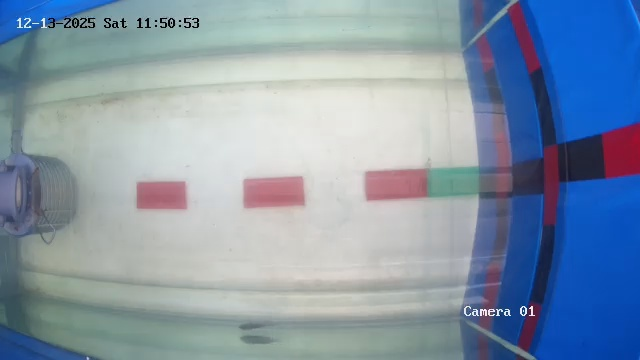fish: (228, 312, 270, 332)
